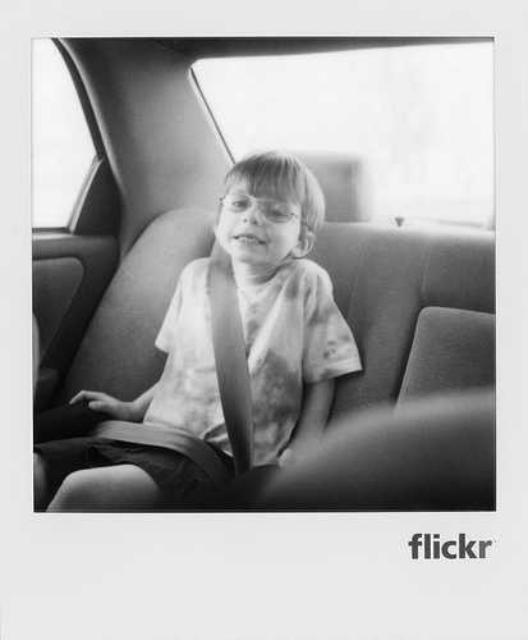Seatbelt: (94, 234, 262, 494)
